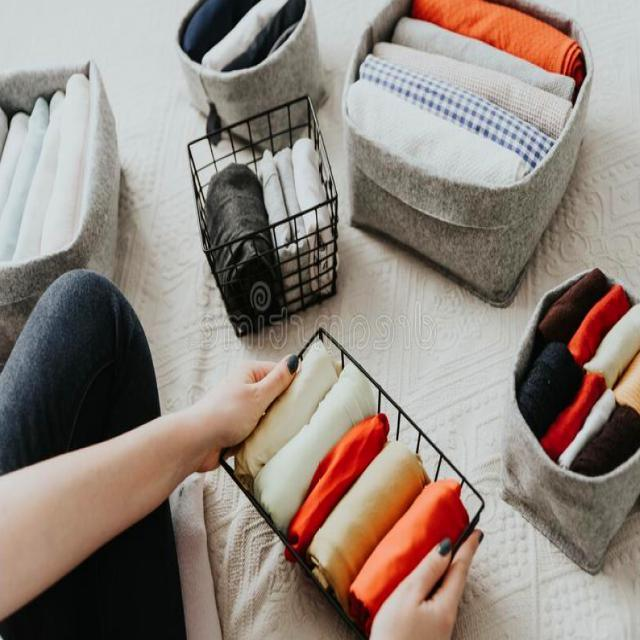clothes: (370, 10, 576, 171), (542, 277, 634, 462), (0, 78, 86, 252), (209, 136, 314, 262), (198, 0, 290, 69)
